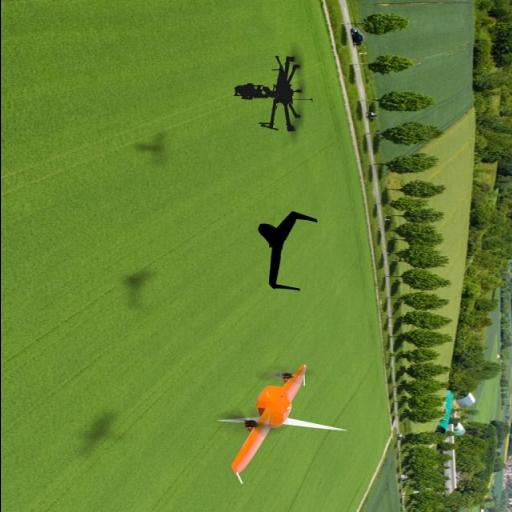uav: (207, 356, 348, 492)
